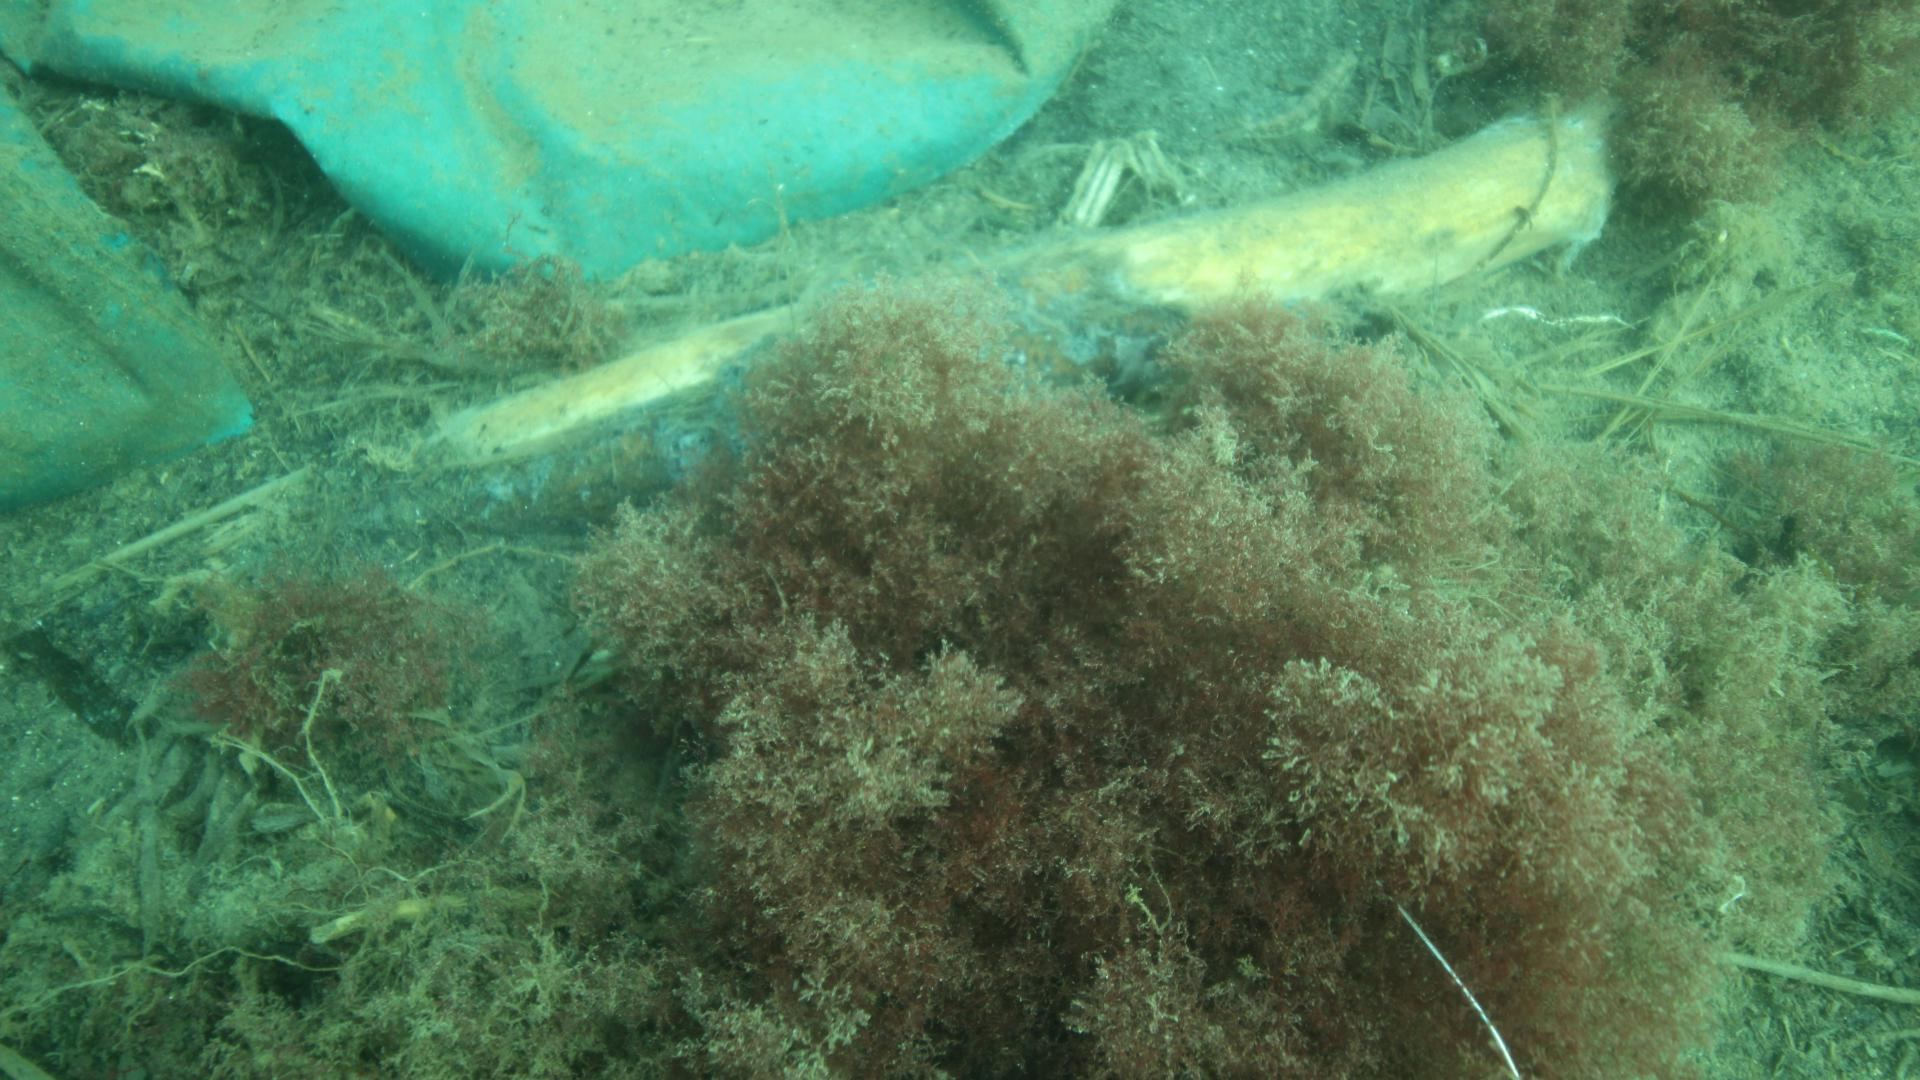wood: (462, 98, 1610, 462)
